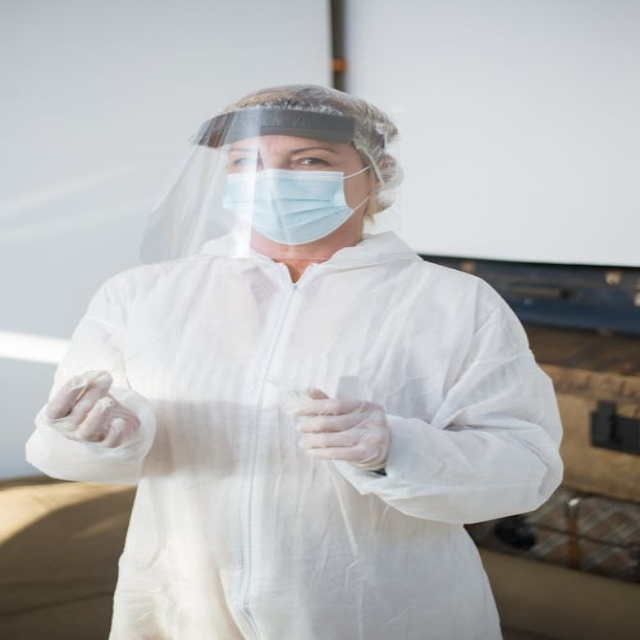Guantes: (289, 386, 392, 470), (45, 368, 145, 450)
Mascara: (224, 164, 366, 244)
Sin_gafas: (223, 145, 351, 180)
